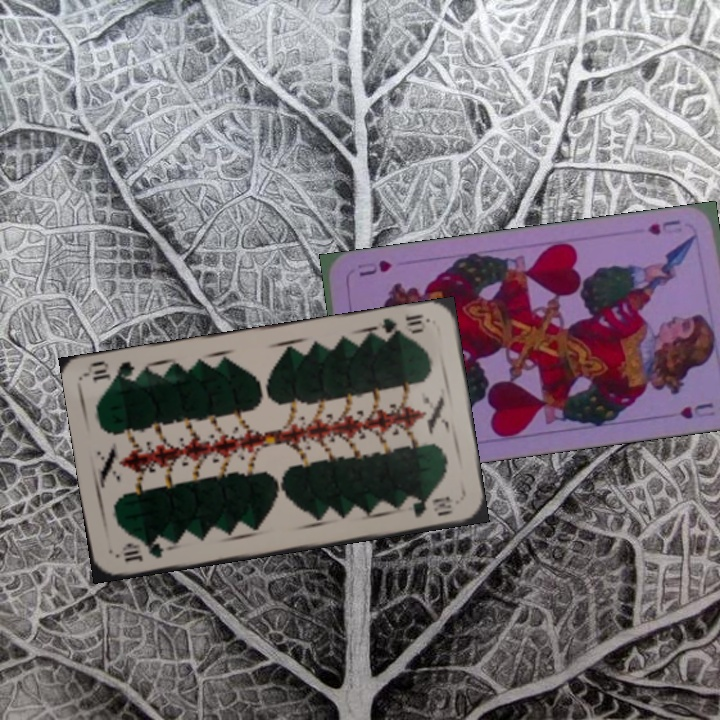G10: (374, 310, 431, 342), (118, 538, 167, 564)
HU: (643, 216, 685, 238)
